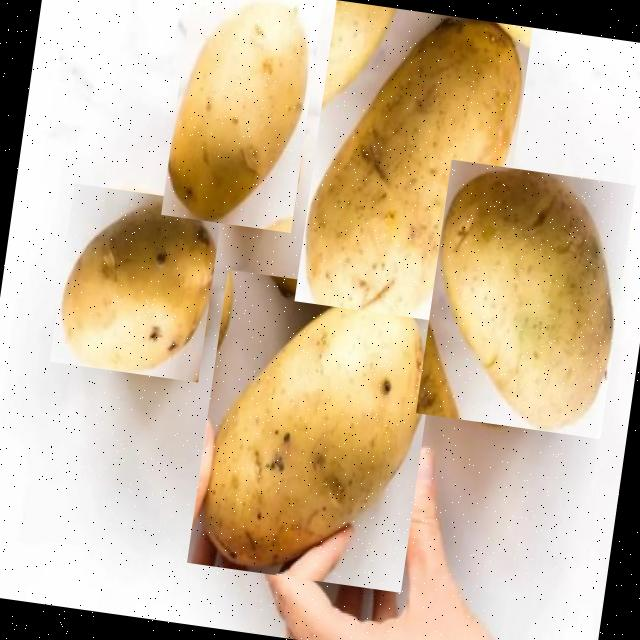Potato: (187, 269, 442, 592), (294, 0, 532, 328), (416, 159, 636, 438), (161, 0, 324, 232), (50, 182, 224, 382)
